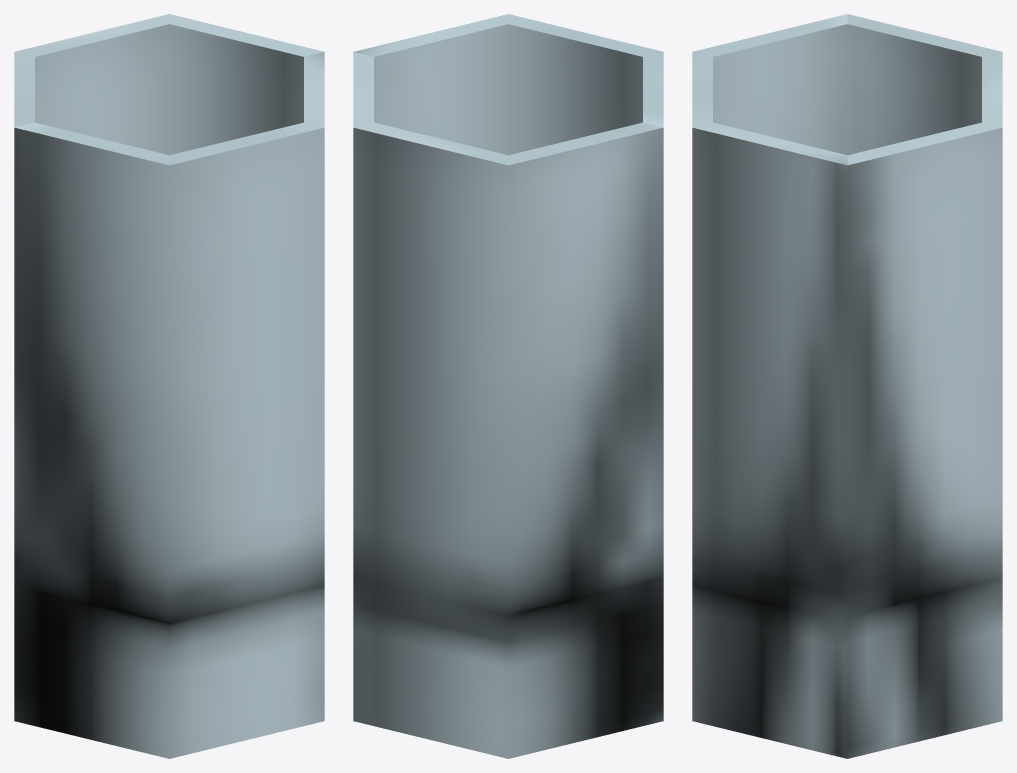
Rendered from EmptyGlassV1.fbx.
3 views of the same model, side by side, from view 1: azimuth 30°, elevation 25°; view 2: azimuth 150°, elevation 25°; view 3: azimuth 270°, elevation 25° (orthographic).
Visible parts, largest first — view 1: Glasses.004; view 2: Glasses.004; view 3: Glasses.004.
Boxes of the visible parts, x1,y1,x2,y2 form: Glasses.004: [14, 14, 324, 758]; Glasses.004: [353, 14, 663, 758]; Glasses.004: [692, 14, 1002, 758].
Size of the model in its own units: 0.0839 by 0.1534 by 0.0727.
